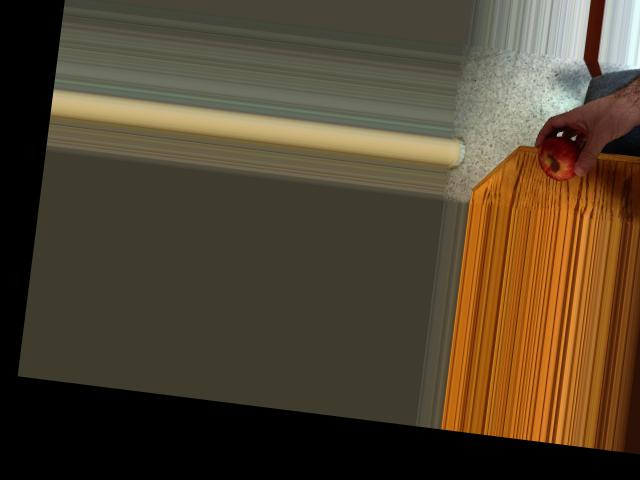apple: (531, 132, 591, 183)
